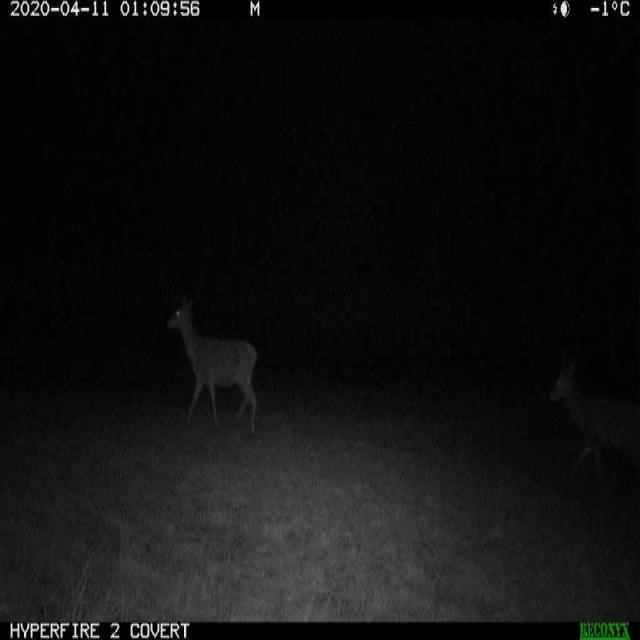deer: (154, 282, 266, 446)
